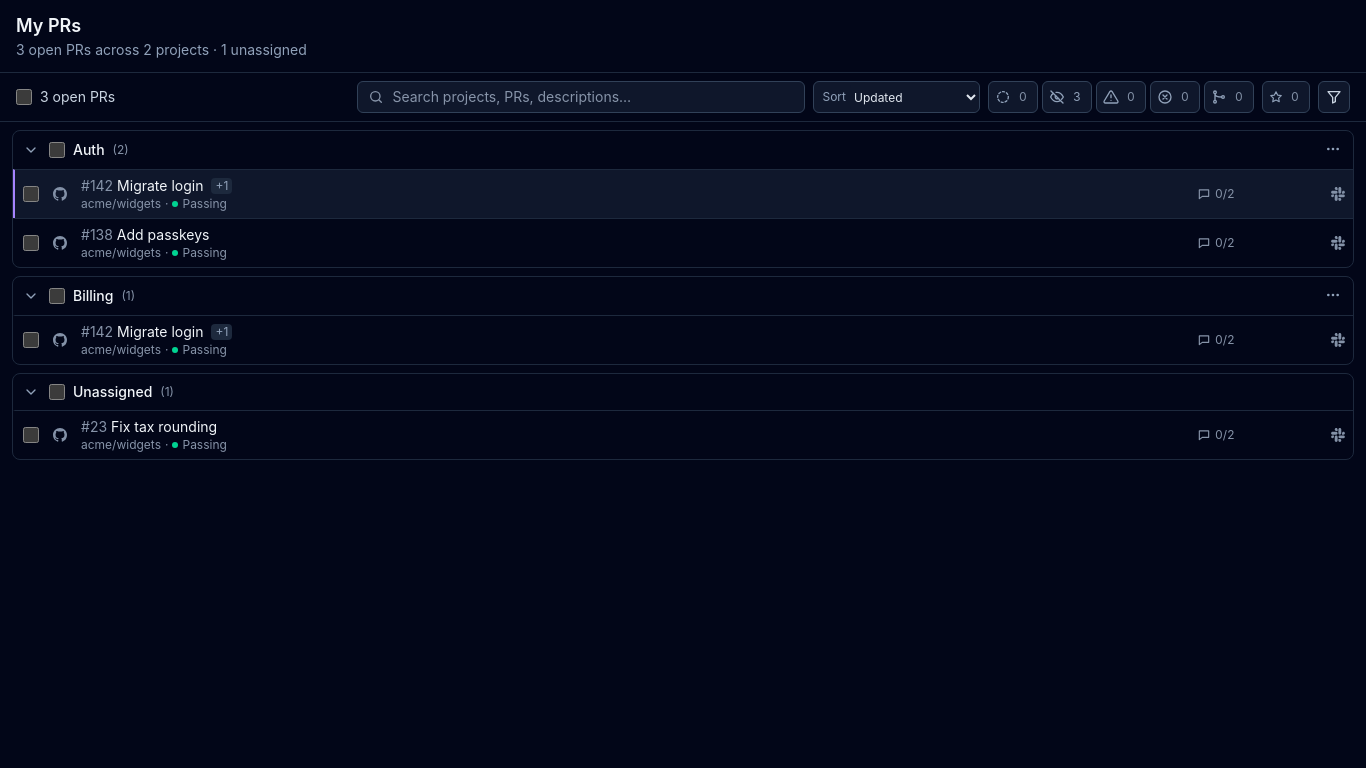
Test: Esc clears the selection from a focused row checkbox, but not from the search field
Click the checkbox named "Select Migrate login" below "Auth" at {"x": 31, "y": 194}, box [23,186,39,202]
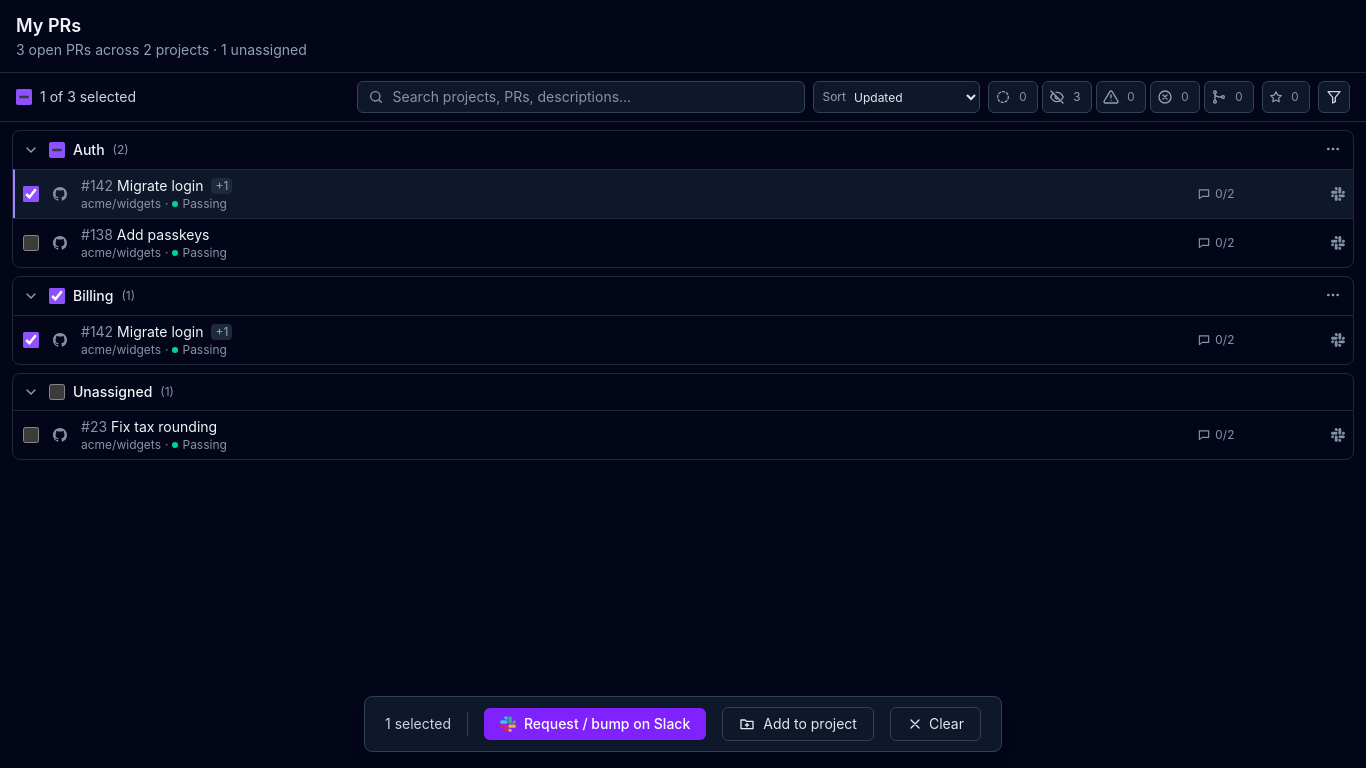
Click the checkbox named "Select Add passkeys" at {"x": 31, "y": 243}, box [23,235,39,251]
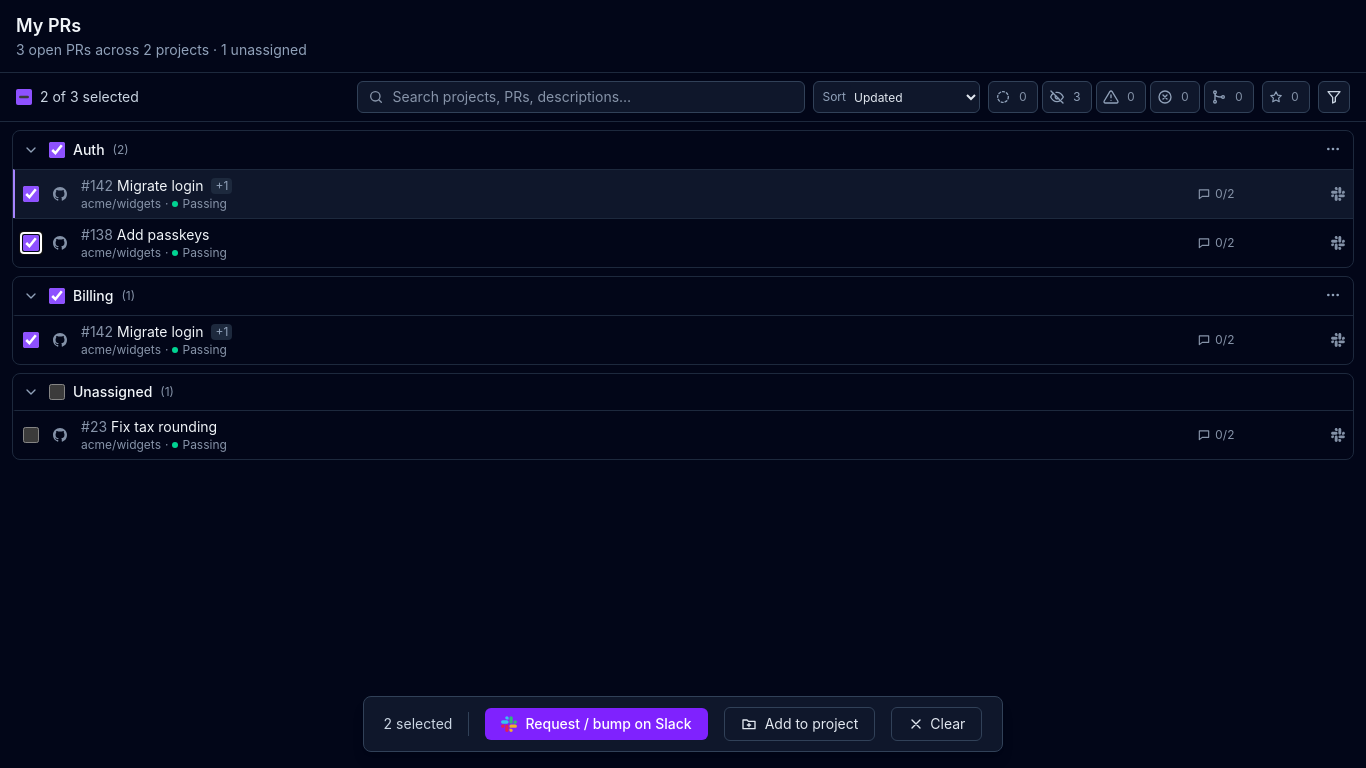
Expected: the element named "Selection actions" is shown, [363,696,1003,752]
Press Escape in the checkbox named "Select Add passkeys", box [23,235,39,251]
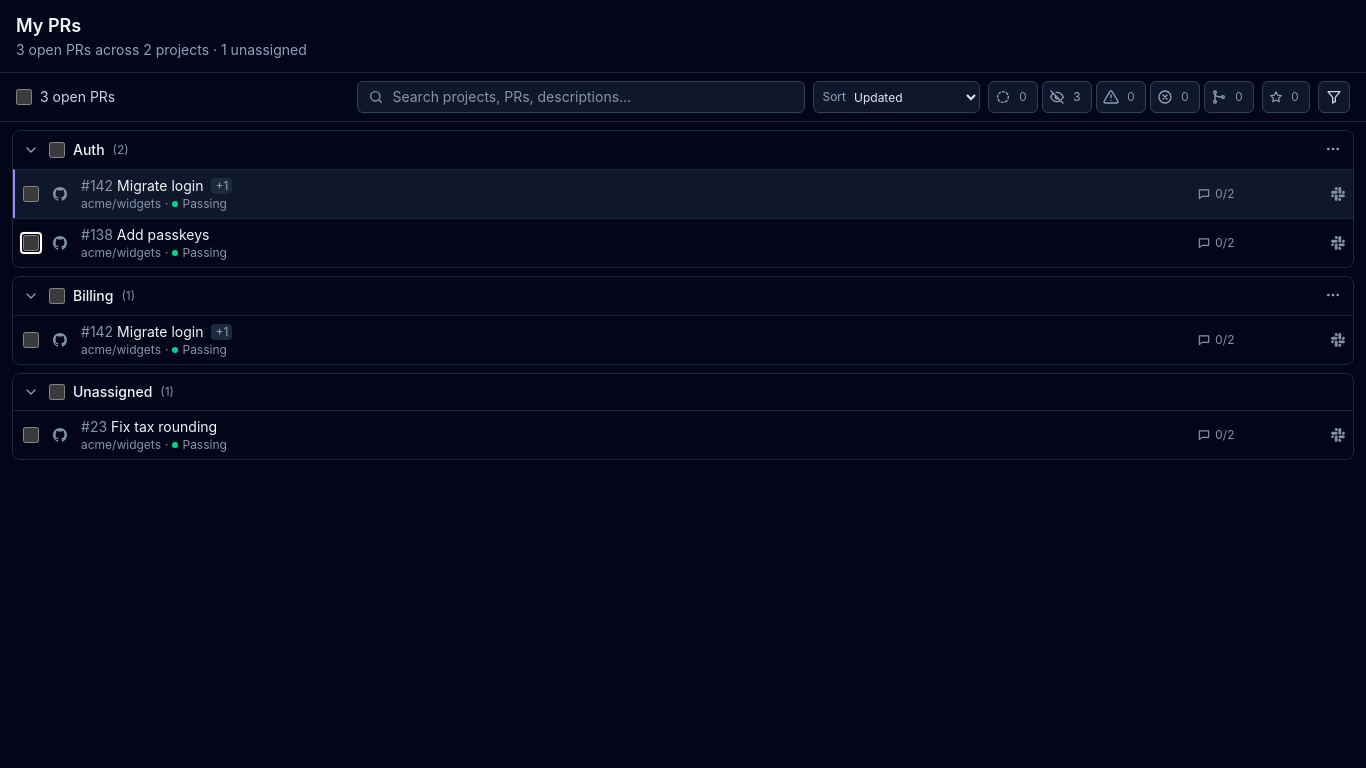
Click the checkbox named "Select Add passkeys" at {"x": 31, "y": 243}, box [23,235,39,251]
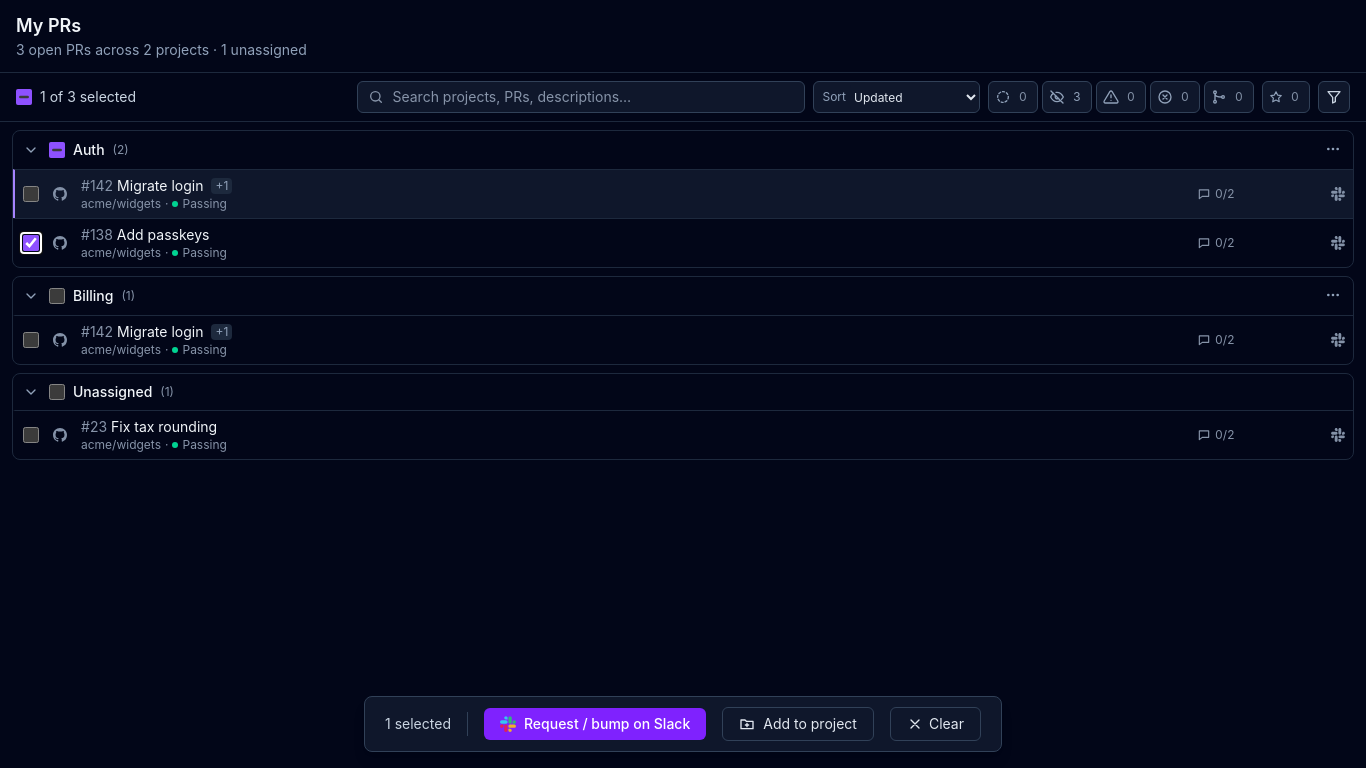
Type "passkeys" into the field labelled "Search" at {"x": 594, "y": 97}, box [392,87,794,107]
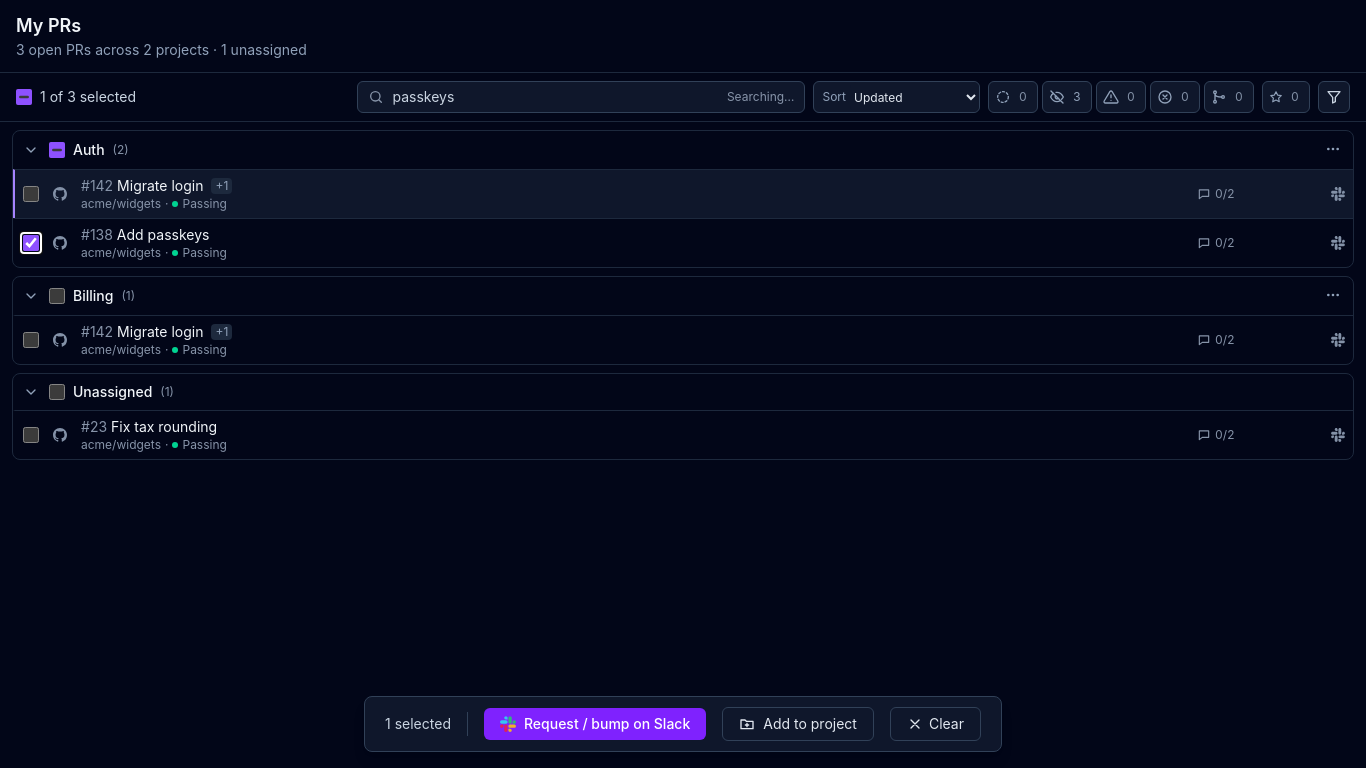
Press Escape in the field labelled "Search", box [392,87,719,107]
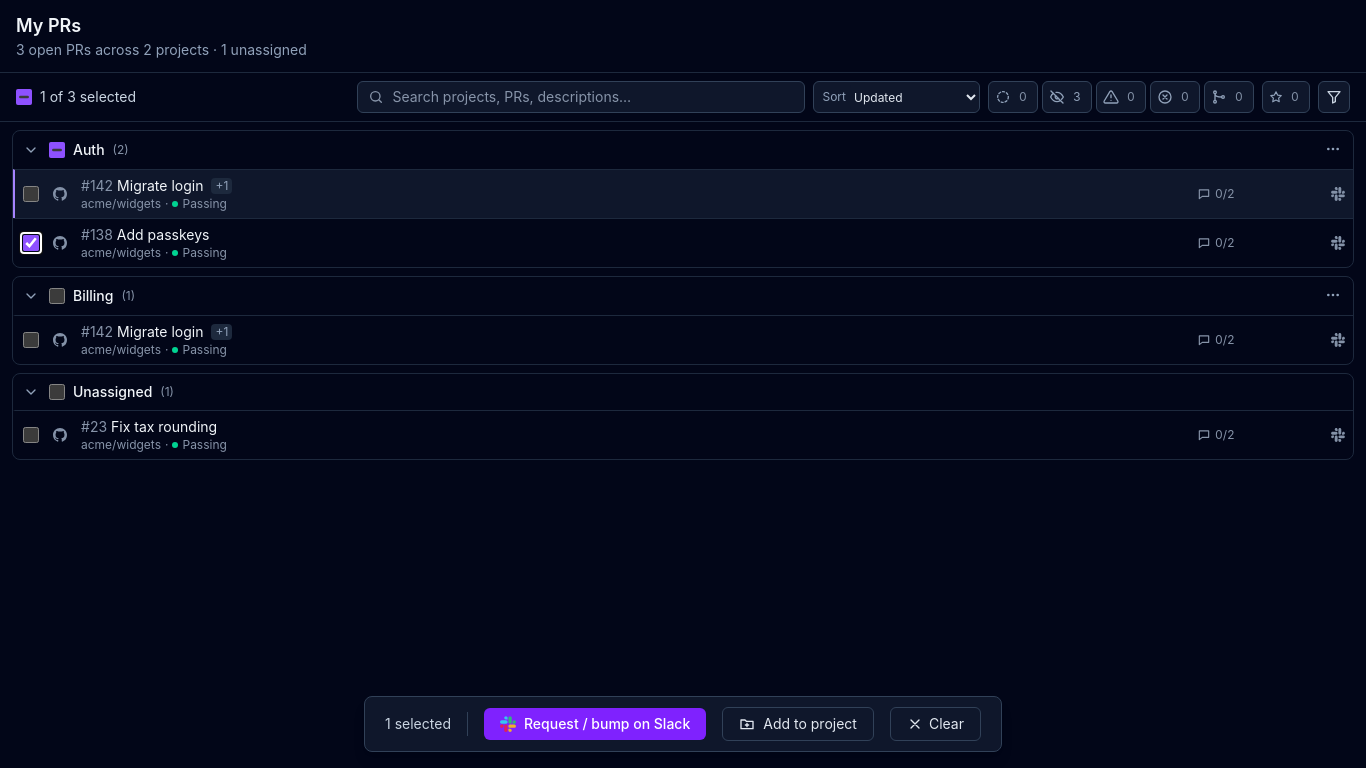
Expected: the element named "Selection actions" is shown, [364,696,1002,752]
Expected: the field labelled "Search" is empty, [392,87,794,107]
